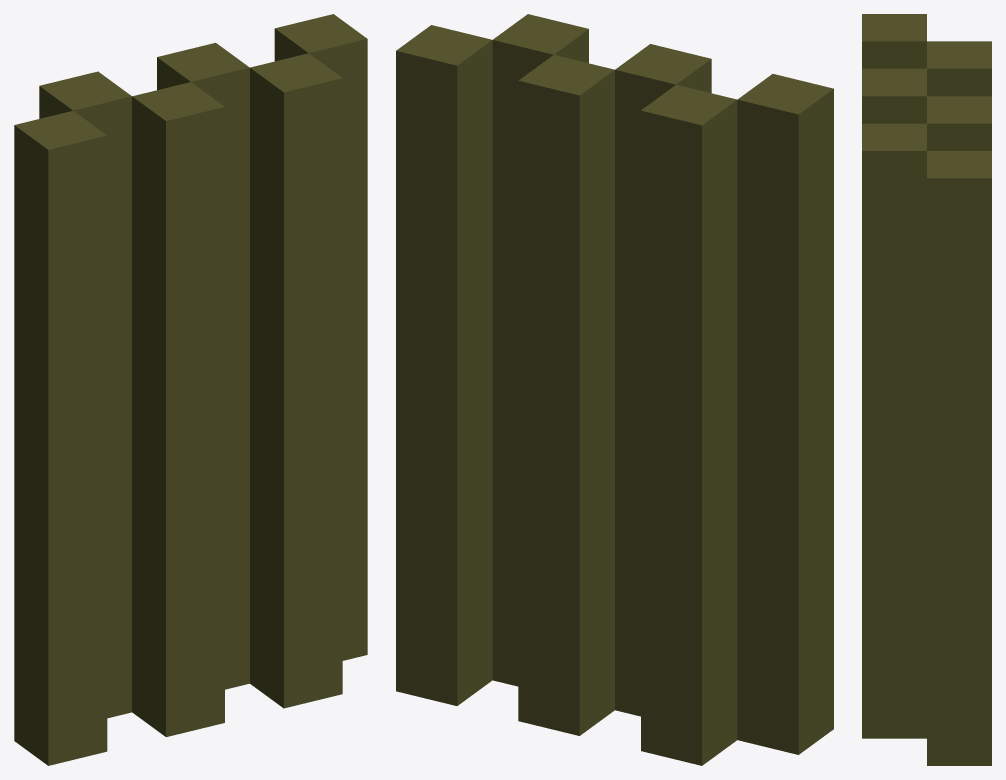
The model's file is NB_TR_F_SkirtPiece_Wider.fbx.
The picture shows the model from 3 angles, left to right: view 1: azimuth 30°, elevation 25°; view 2: azimuth 150°, elevation 25°; view 3: azimuth 270°, elevation 25°; orthographic projection. The views are drawn at different scales.
Parts seen in each view (by area): view 1: SkirtPiece_Wider; view 2: SkirtPiece_Wider; view 3: SkirtPiece_Wider.
Boxes of the visible parts, left/top/right/bottom form: SkirtPiece_Wider: left=14, top=14, right=367, bottom=765; SkirtPiece_Wider: left=396, top=14, right=833, bottom=765; SkirtPiece_Wider: left=862, top=14, right=991, bottom=765.
Bounding box in the file's own units: 6 × 10 × 2.
1 material, 1 textured.
